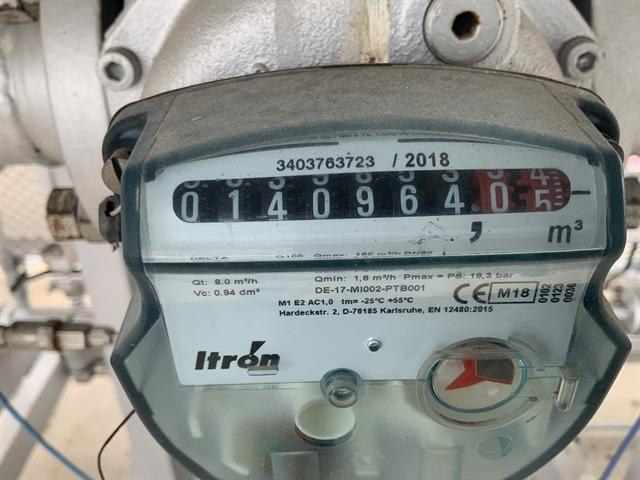analog_dial: (167, 163, 595, 236)
